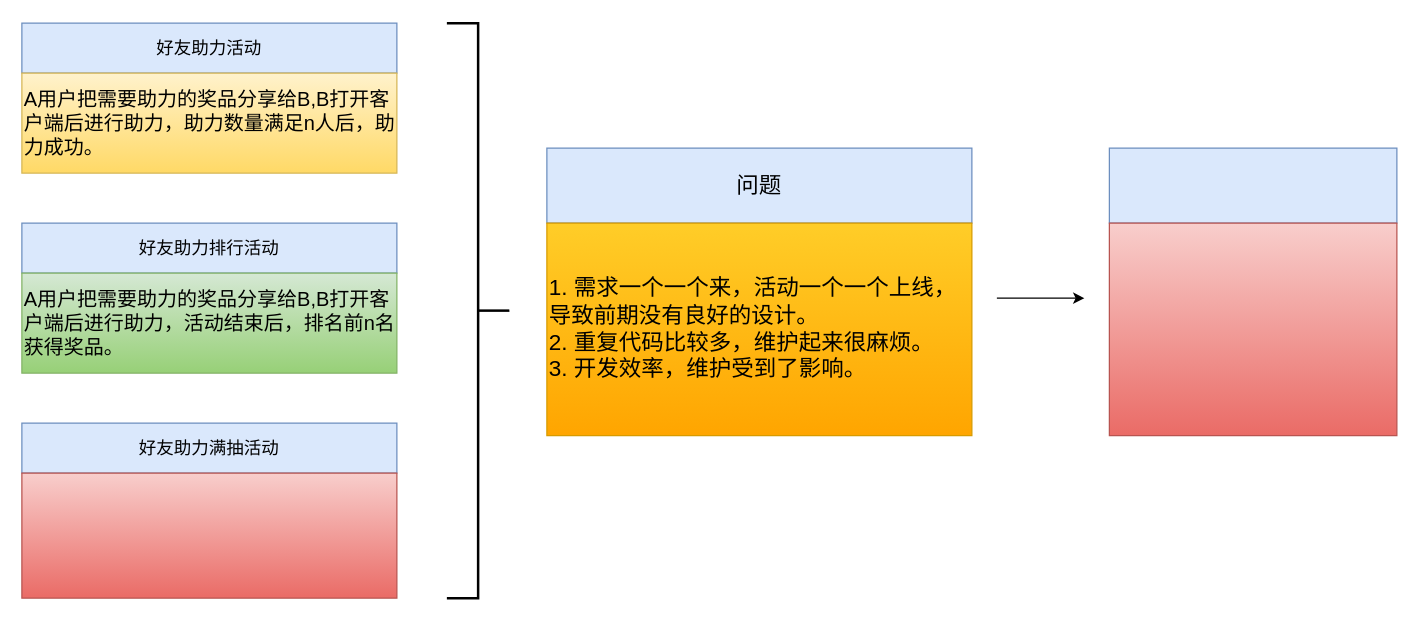
Some shapes in this 1419 by 620 pixel diagram are drawn without their labels. The centre of each missing label's shape, as x and y in pixels:
1. 需求评审时，多问产品，此类活动是否有延展性，下一阶段计划等。 2. 不要上来就开发，有时多思考下如何设计，会有很大好处。: the point at 1252,329
A用户把需要助力的奖品分享给B,B打开客户端后进行助力，助力数量满足n人后，进入抽奖池，活动进入抽奖日后，有资格进行抽奖: the point at 209,535
解决方案: the point at 1252,185
